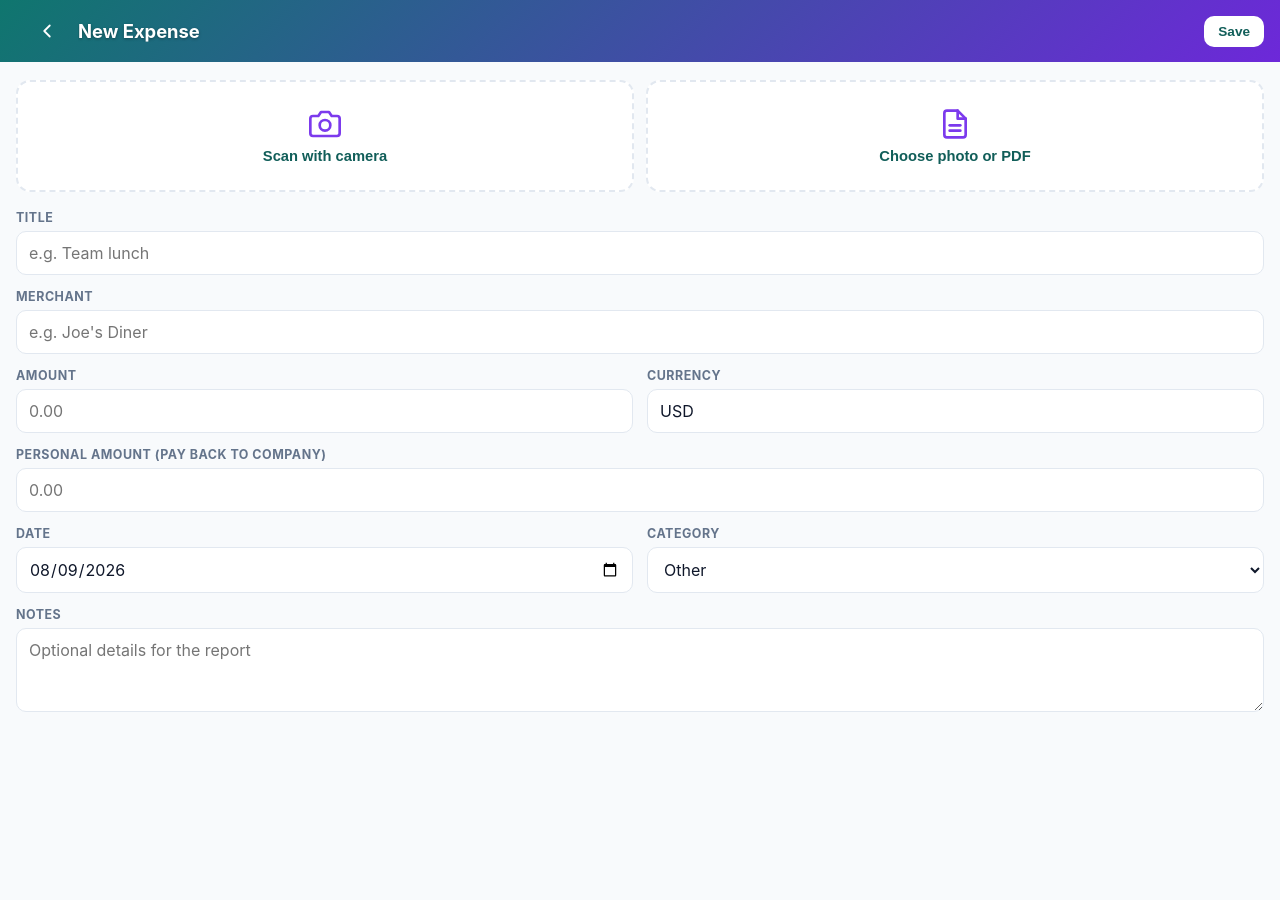
Test: ExpenseEditor submit-time validation › rejects a draft with neither a title nor a merchant, and marks the title field
In the number field labelled "Amount": (324, 411) x1=16 y1=389 x2=633 y2=433, type "20"
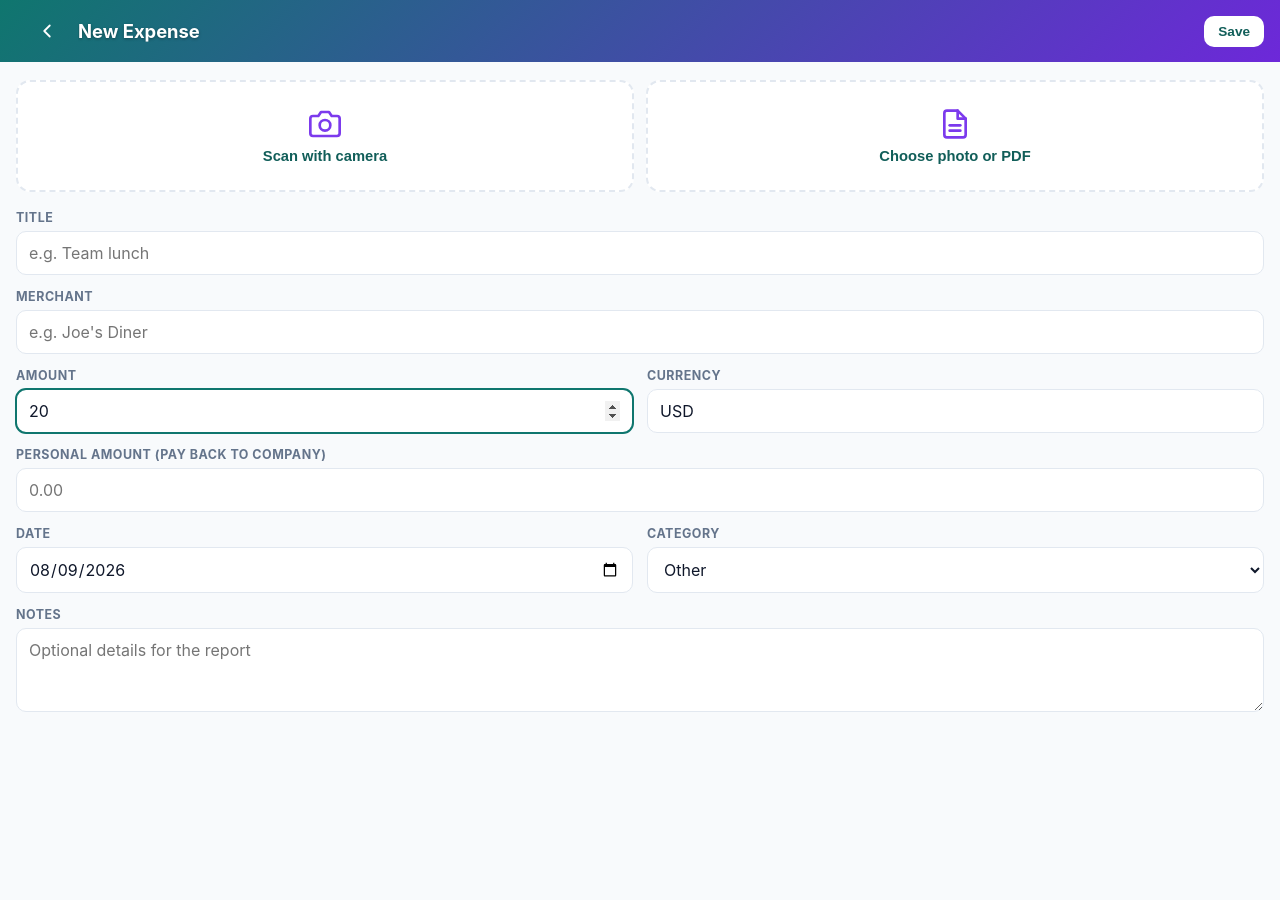
Click the button "Save": (1234, 31) x1=1204 y1=16 x2=1264 y2=46
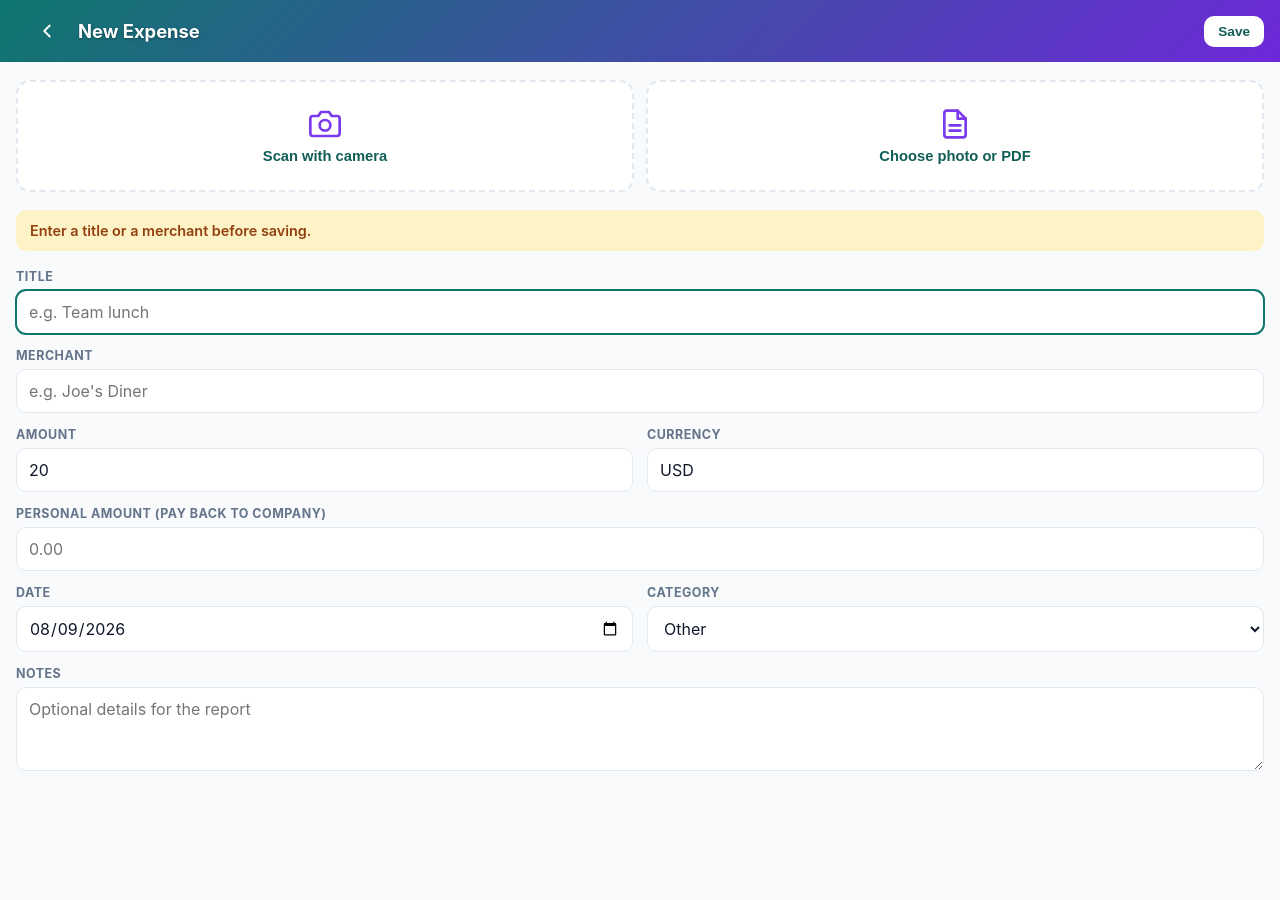
Now the message reads "Enter a title or a merchant before saving.", box x1=30 y1=222 x2=312 y2=239
